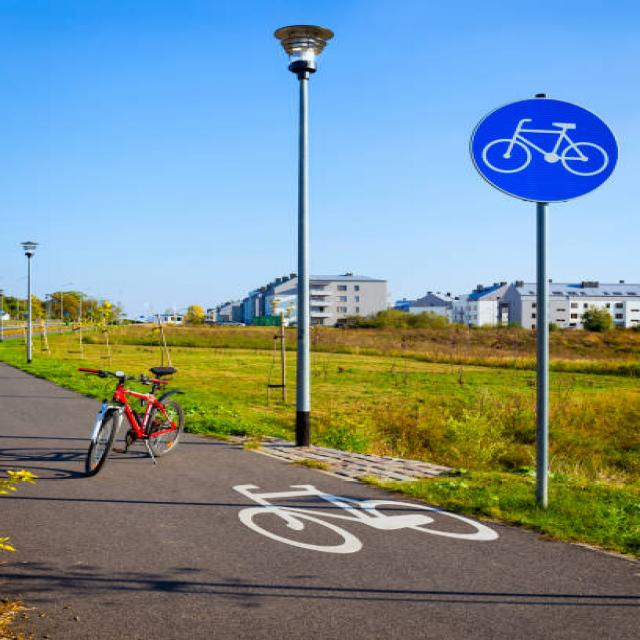bicycle: (460, 89, 630, 202)
